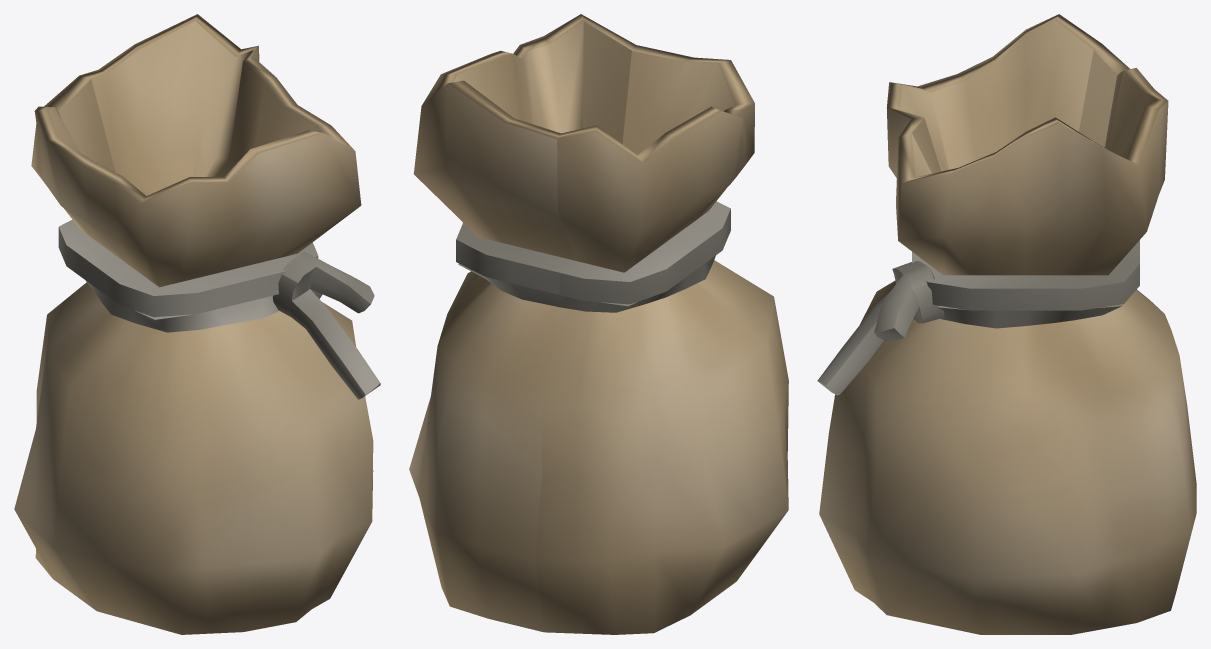
Rendered from BgMD_Bag_01.fbx.
3 renders of one model, left to right at view 1: azimuth 30°, elevation 25°; view 2: azimuth 150°, elevation 25°; view 3: azimuth 270°, elevation 25°, orthographic. The views are drawn at different scales.
Visible parts, largest first — view 1: BgMD_Bag_01; view 2: BgMD_Bag_01; view 3: BgMD_Bag_01.
Boxes of the visible parts, x1=… form: BgMD_Bag_01: x1=14, y1=14, x2=380, y2=634; BgMD_Bag_01: x1=409, y1=14, x2=788, y2=634; BgMD_Bag_01: x1=817, y1=14, x2=1196, y2=634.
Bounding box in the file's own units: 17.5 × 25.62 × 17.46.
Materials: 1 (1 with a texture image).
